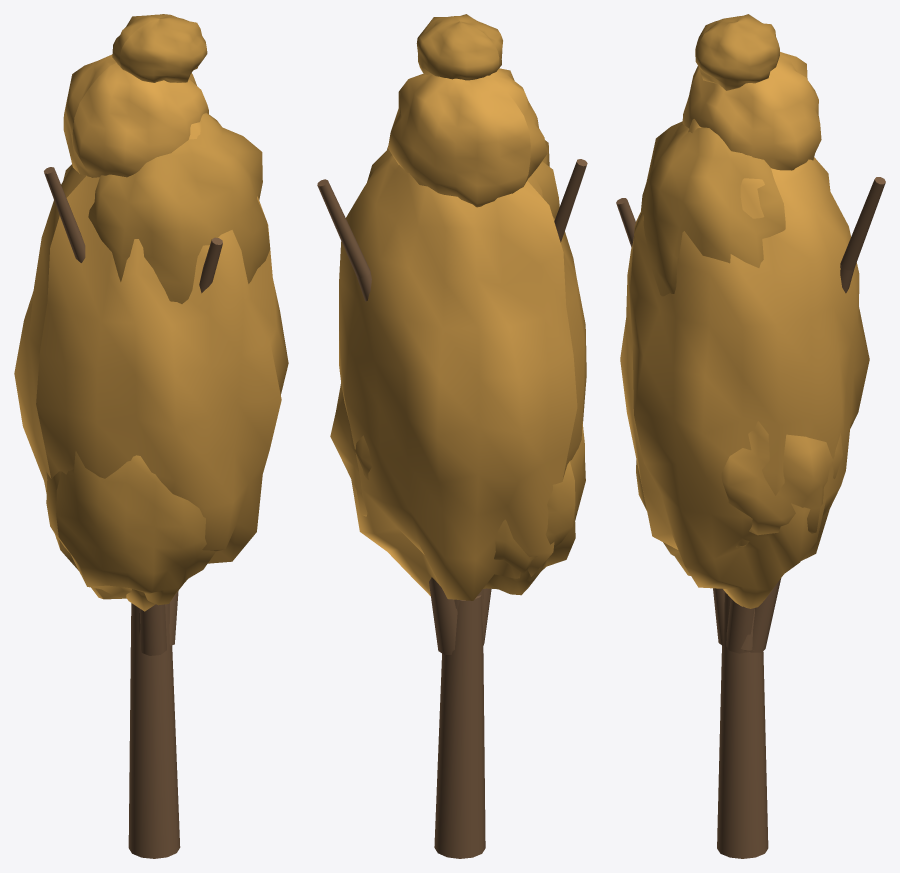
Rendered from amanogawa-osz.glb.
The picture shows the model from 3 angles, left to right: view 1: azimuth 30°, elevation 25°; view 2: azimuth 150°, elevation 25°; view 3: azimuth 270°, elevation 25°; orthographic projection.
Parts seen in each view (by area): view 1: korona-1, korona-4, korona-2, korona-5, torzs, korona-6, ag-3-5, ag-3-1, ag-2-5; view 2: korona-1, korona-5, torzs, korona-2, korona-6, korona-3, ag-6-5, ag-6-1, korona-4, ag-3-5; view 3: korona-1, korona-4, korona-5, torzs, korona-3, korona-6, ag-6-5, ag-7-1, ag-6-1.
Part boxes in pixels (box(x1,y1,x2,y2)): korona-1: box(14, 121, 288, 611); korona-4: box(88, 112, 270, 303); korona-2: box(46, 451, 215, 605); korona-5: box(63, 54, 208, 177); torzs: box(128, 603, 180, 858); korona-6: box(112, 14, 207, 82); ag-3-5: box(44, 167, 85, 262); ag-3-1: box(139, 604, 166, 655); ag-2-5: box(199, 237, 222, 293); korona-1: box(339, 155, 586, 600); korona-5: box(388, 68, 547, 207); torzs: box(434, 595, 485, 858); korona-2: box(483, 421, 585, 595); korona-6: box(416, 14, 502, 80); korona-3: box(330, 382, 372, 516); ag-6-5: box(317, 179, 370, 277); ag-6-1: box(429, 577, 457, 655); korona-4: box(367, 140, 559, 218); ag-3-5: box(554, 159, 587, 242); korona-1: box(620, 119, 869, 608); korona-4: box(640, 121, 785, 296); korona-5: box(682, 52, 821, 170); torzs: box(717, 591, 768, 858); korona-3: box(721, 421, 842, 547); korona-6: box(695, 14, 779, 90); ag-6-5: box(840, 177, 885, 270); ag-7-1: box(726, 598, 754, 653); ag-6-1: box(748, 578, 781, 652).
Bounding box in the file's own units: 1.99 × 6.77 × 2.
